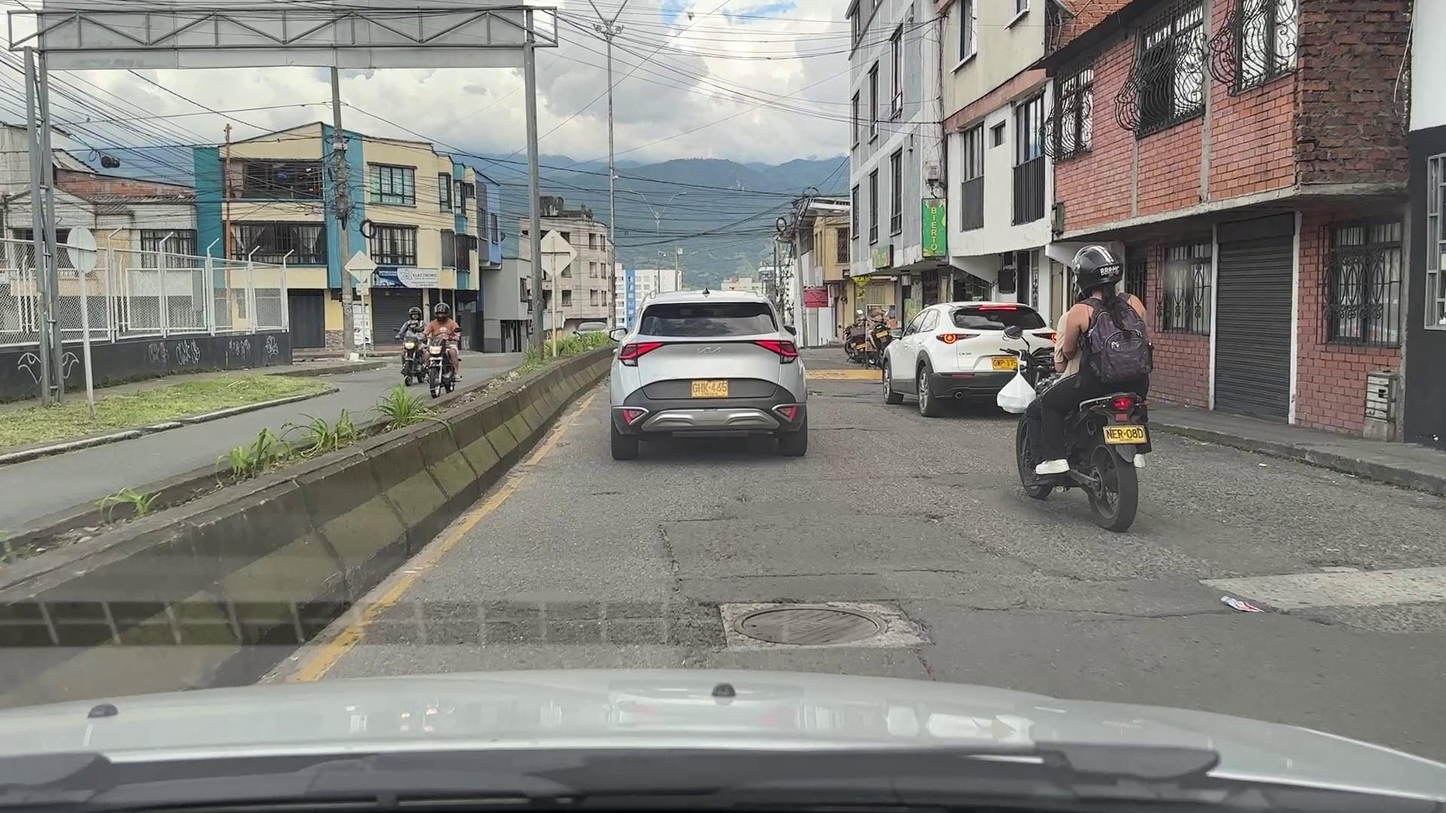bache: (1309, 559, 1374, 572), (926, 514, 942, 525)
grieta: (657, 524, 690, 594), (907, 643, 936, 681)
registro: (730, 605, 883, 645)
